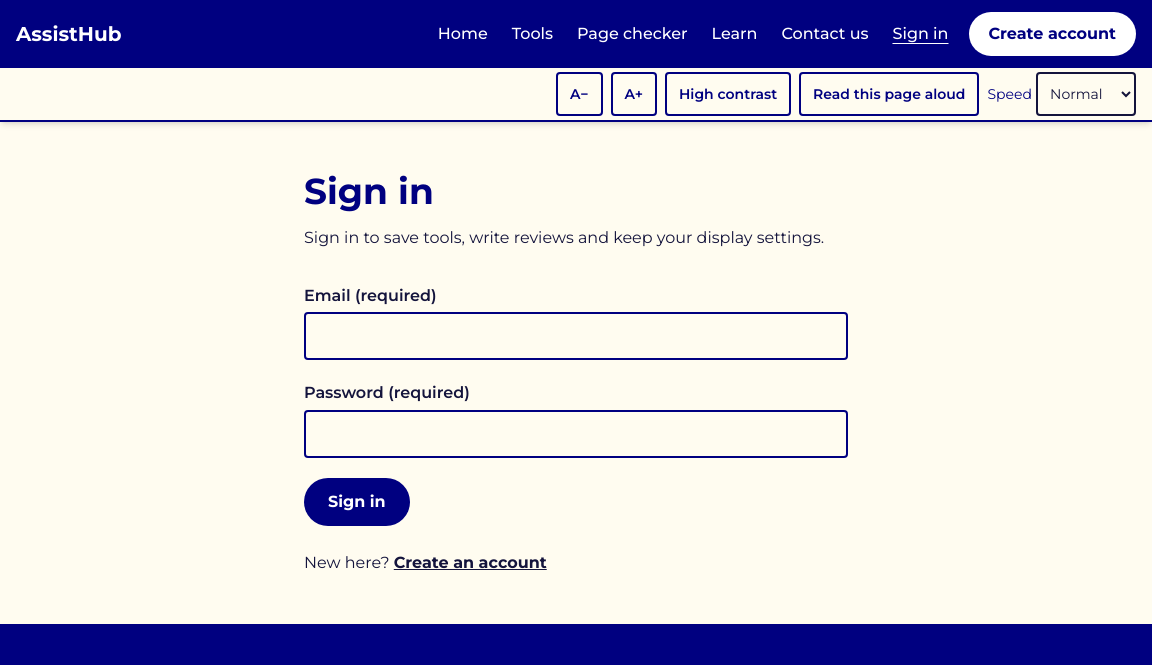
Test case: forms › login shows an error summary and focuses it
The image size is (1152, 665).
Click the button "Sign in" at (357, 502), box [304,478,410,526]
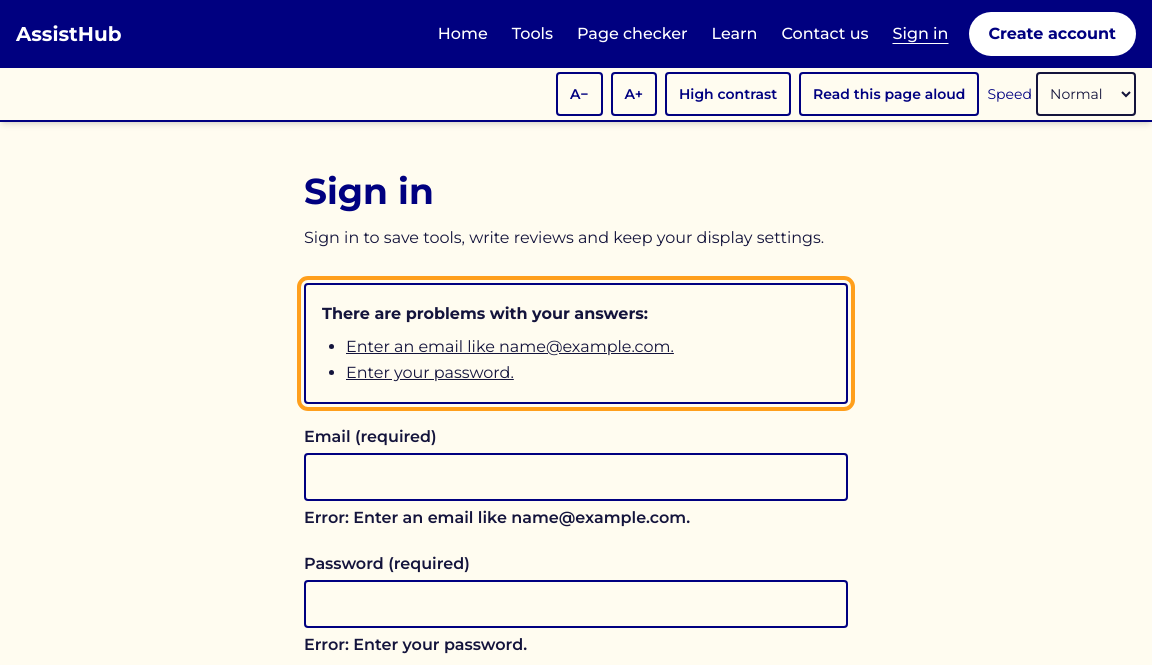
Now the message shows "Enter an email like name@example.com.", box [346,337,674,356]
